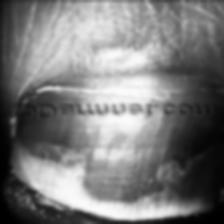Toxin: (3, 120, 224, 220)
